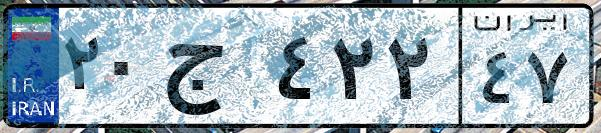0: (110, 28, 158, 98)
2: (385, 28, 445, 110), (330, 28, 385, 110), (57, 26, 110, 100)
4: (270, 28, 330, 110), (475, 38, 525, 113)
7: (525, 38, 570, 115)
ج: (158, 20, 270, 120)
